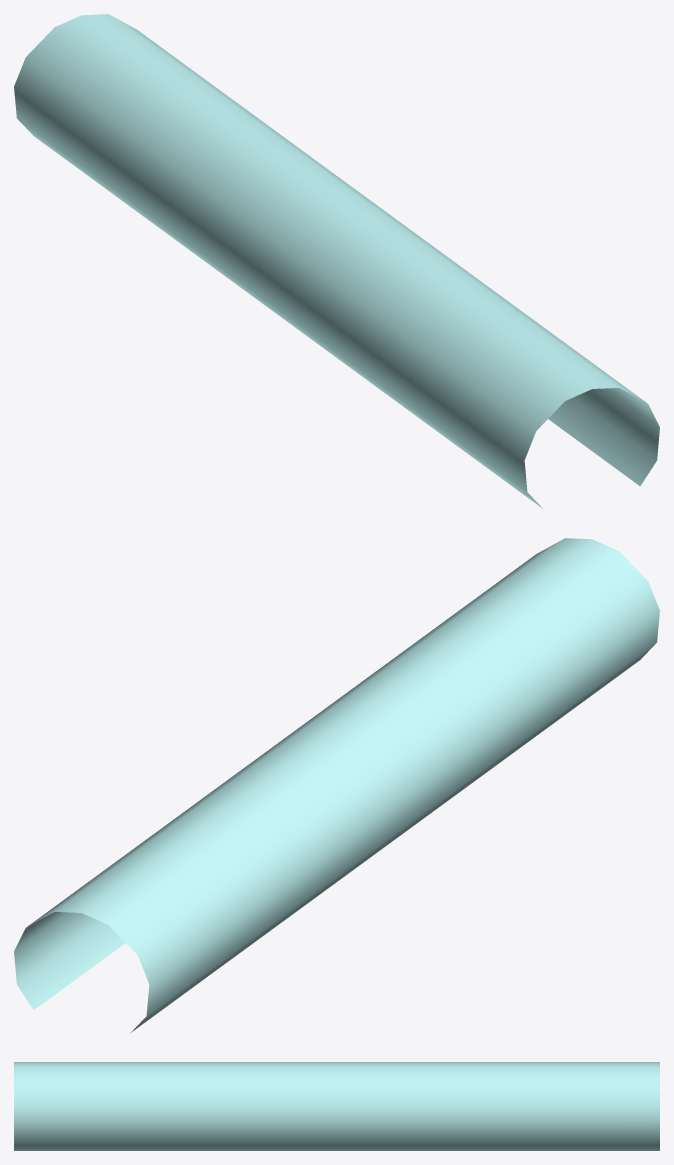
Rendered from model_suidao7.FBX.
3 views of the same model, one above another, from view 1: azimuth 30°, elevation 25°; view 2: azimuth 150°, elevation 25°; view 3: azimuth 270°, elevation 25° (orthographic). The views are drawn at different scales.
Visible parts, largest first — view 1: model_suidao008; view 2: model_suidao008; view 3: model_suidao008.
Part boxes in pixels (<box>): model_suidao008: <box>14,14,659,508</box>; model_suidao008: <box>14,538,659,1032</box>; model_suidao008: <box>14,1062,659,1150</box>.
Size of the model in its own units: 1476 by 1138 by 9646.
